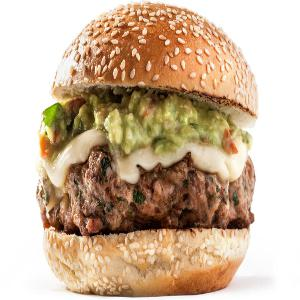cheeseburger: (38, 2, 263, 296)
